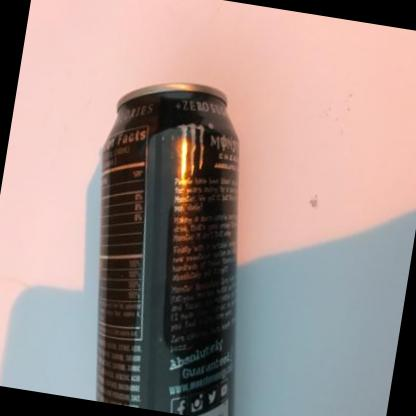Metal: (96, 83, 239, 416)
